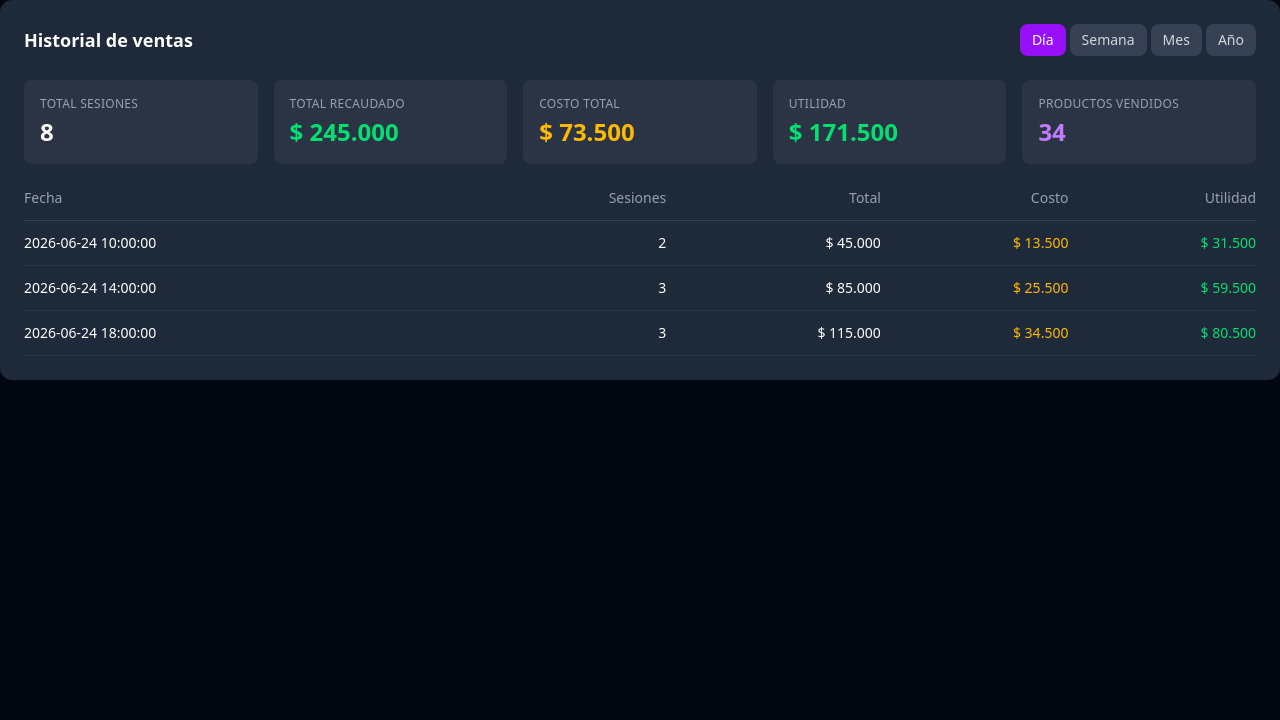
SalesHistorySection › changes data when clicking week button
Expected: the text "Total sesiones" is shown, [40,95,138,112]
// Click "Semana" button
Click the button "Semana". click: (1108, 40)
box: [1070,24,1147,56]
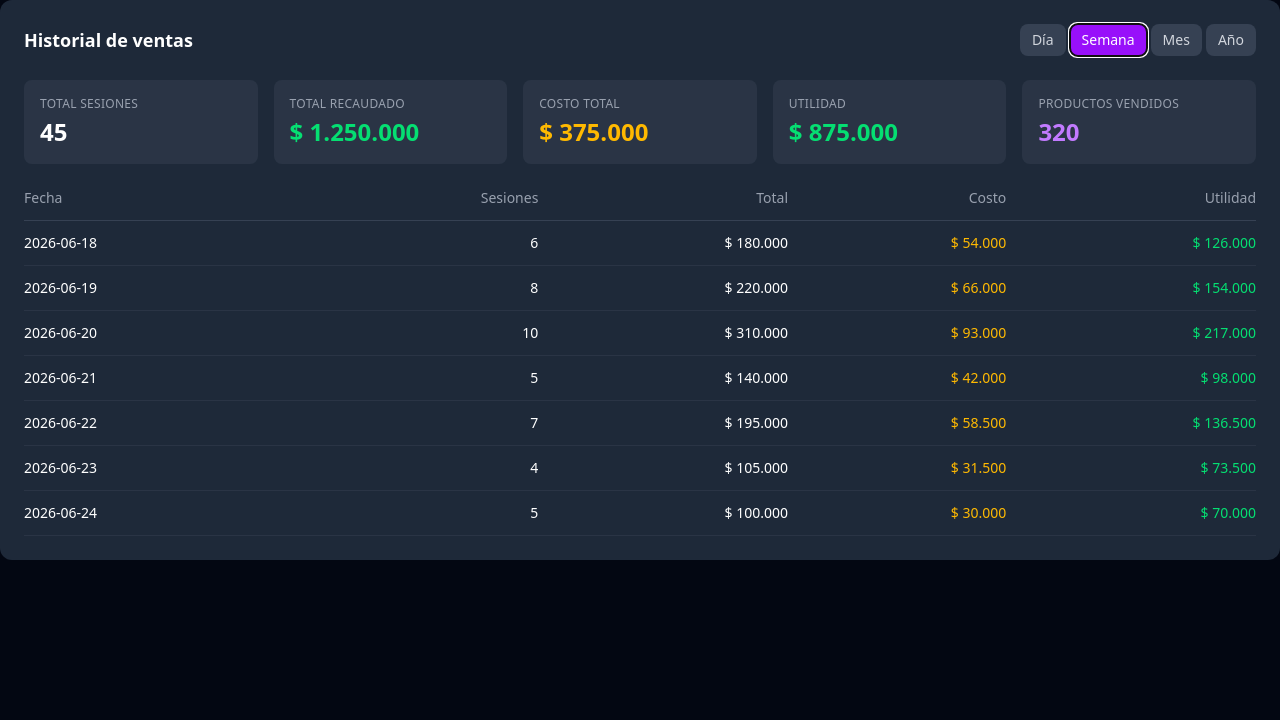
Expected: the text "$ 1.250.000" is shown, [290,115,419,148]
Expected: the text "45" is shown, [40,115,68,148]
Expected: the text "320" is shown, [1038,115,1080,148]
